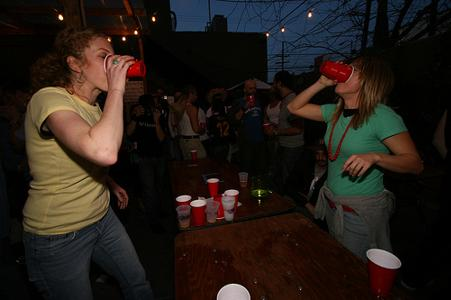person: (22, 28, 160, 300)
